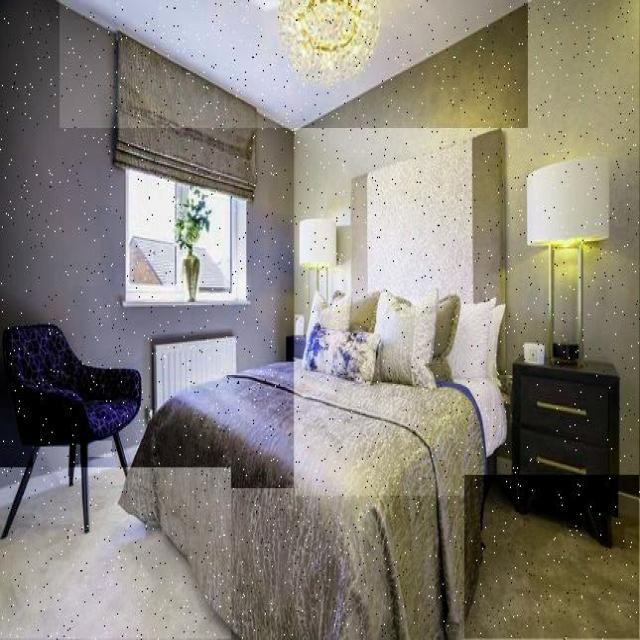Wall: (295, 0, 640, 496), (0, 0, 294, 488), (60, 0, 528, 128), (0, 468, 231, 639), (465, 476, 639, 639), (34, 448, 69, 476), (89, 441, 112, 457)
